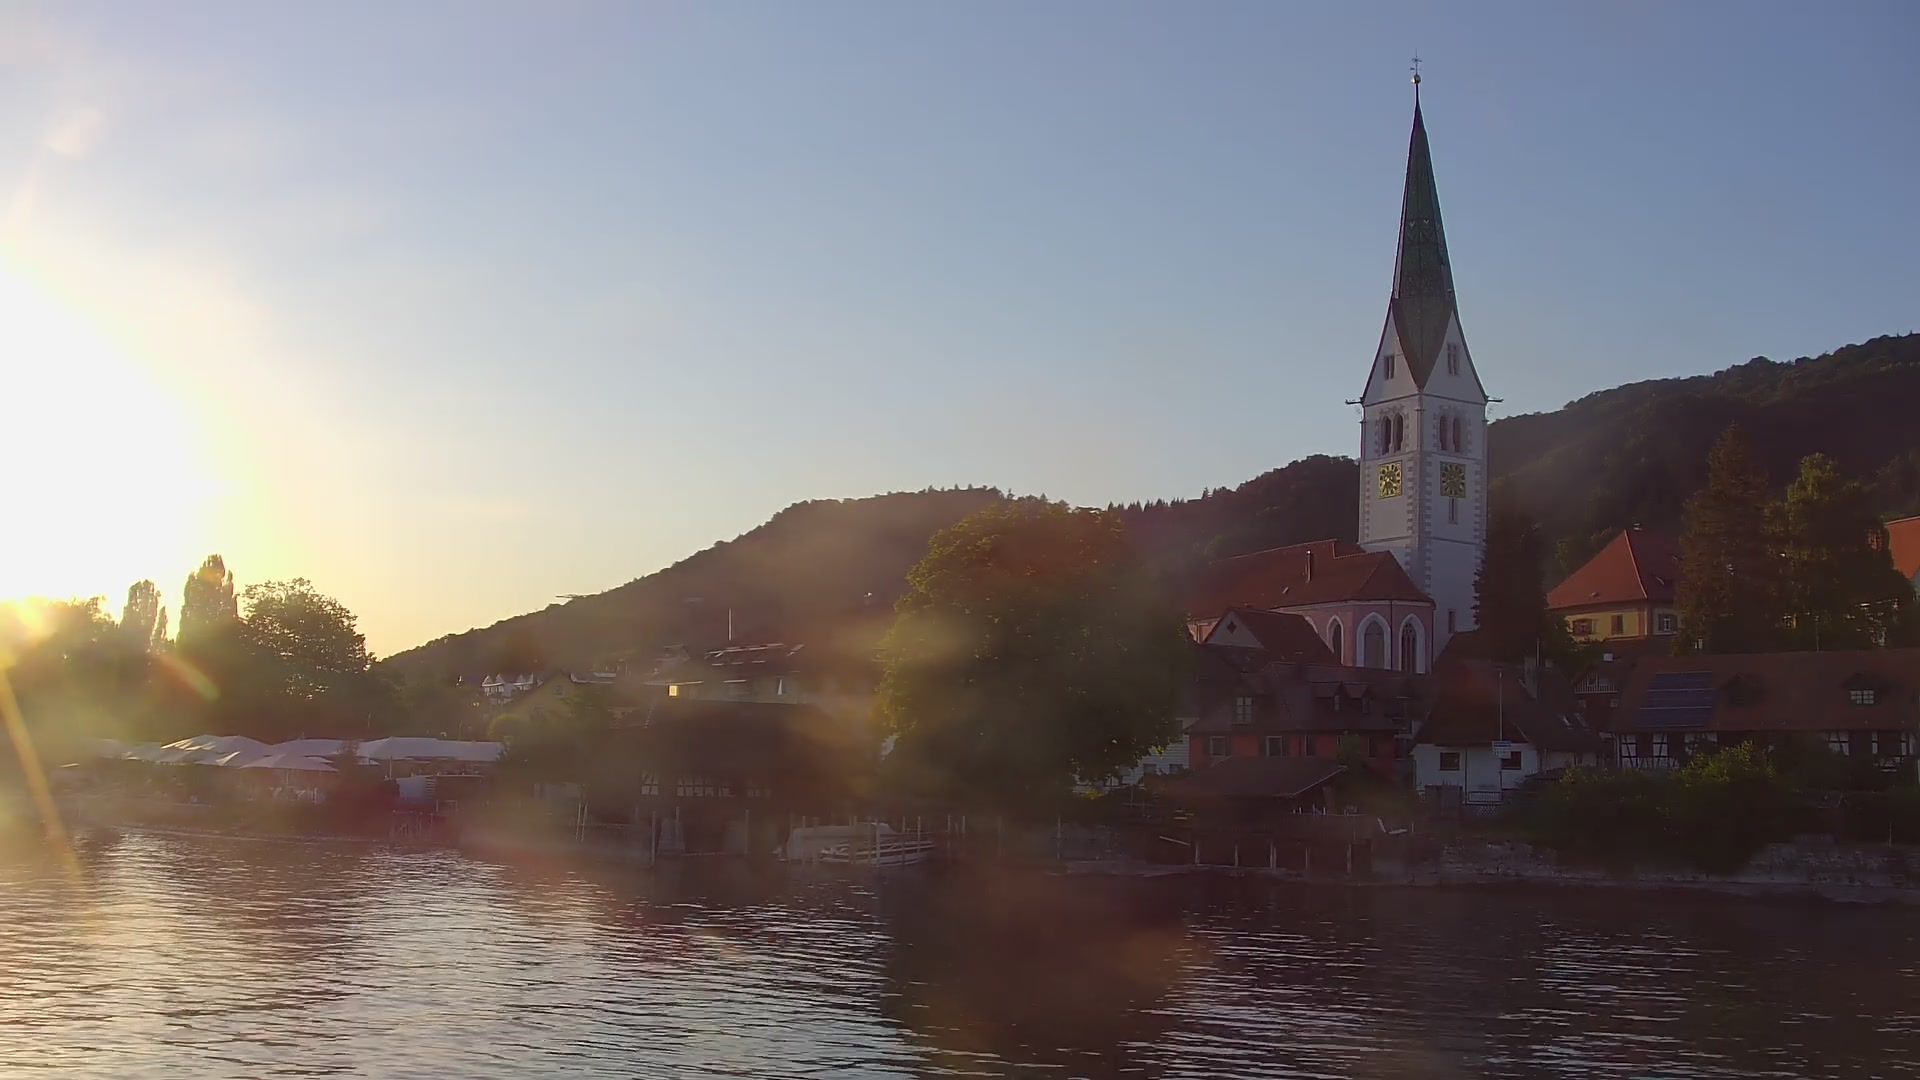sea: (816, 822, 938, 868)
